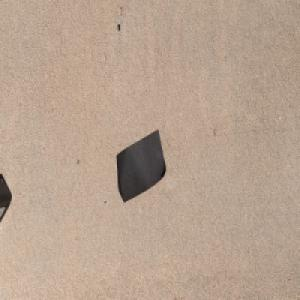PaintChip: (116, 128, 166, 203)
